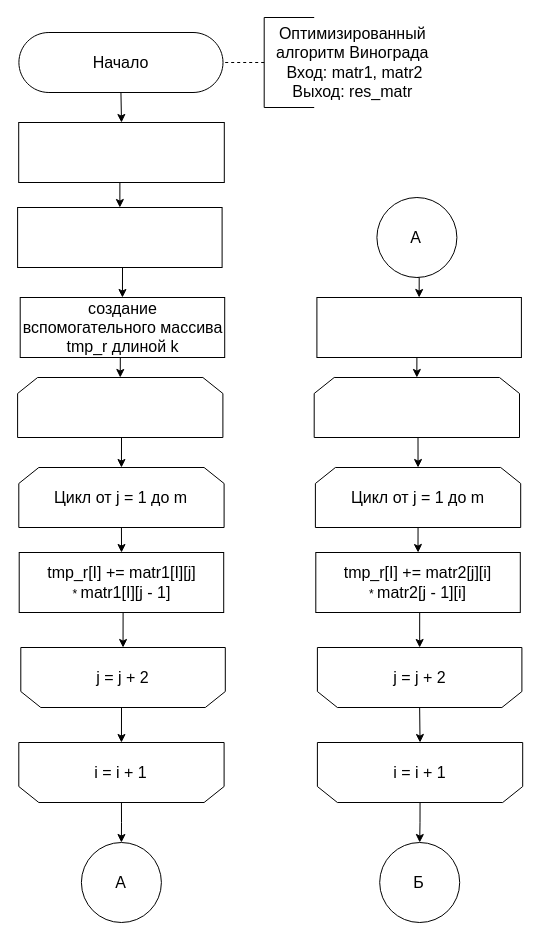
The diagram is 541 pixels wide and 940 high, and some of its shapes have lost their labels. The box of each missing label's shape, as (x1, y1, x2, y2) in pixels:
n - кол-во строк matr1 m - кол-во столбцов matr1 k - кол-востолбцов matr2: (18, 122, 224, 182)
создание res_matr размером n на k, заполненой нулями: (17, 206, 222, 268)
создание вспомогательного массива tmp_с длиной k: (316, 296, 521, 358)
Цикл от i = 0 до k: (313, 376, 520, 438)
Цикл от i = 0 до n: (17, 376, 223, 438)
